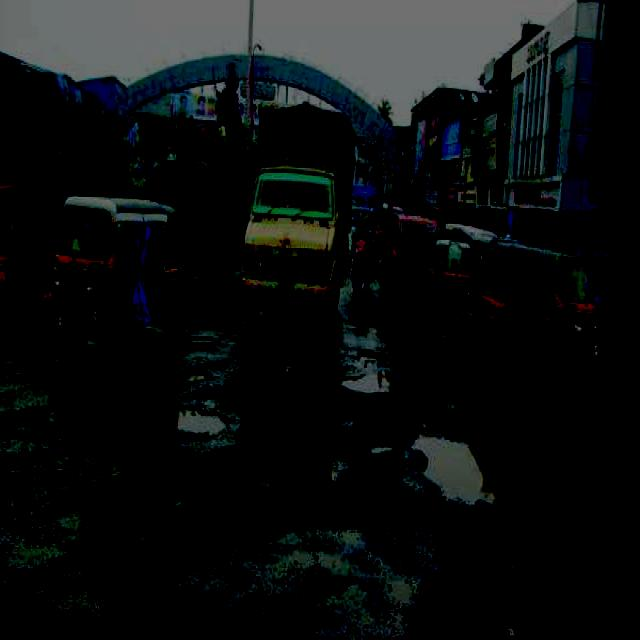Pothole: (369, 422, 640, 578), (1, 432, 149, 505), (333, 346, 494, 407), (151, 406, 235, 442), (224, 366, 323, 394), (300, 453, 366, 492)
